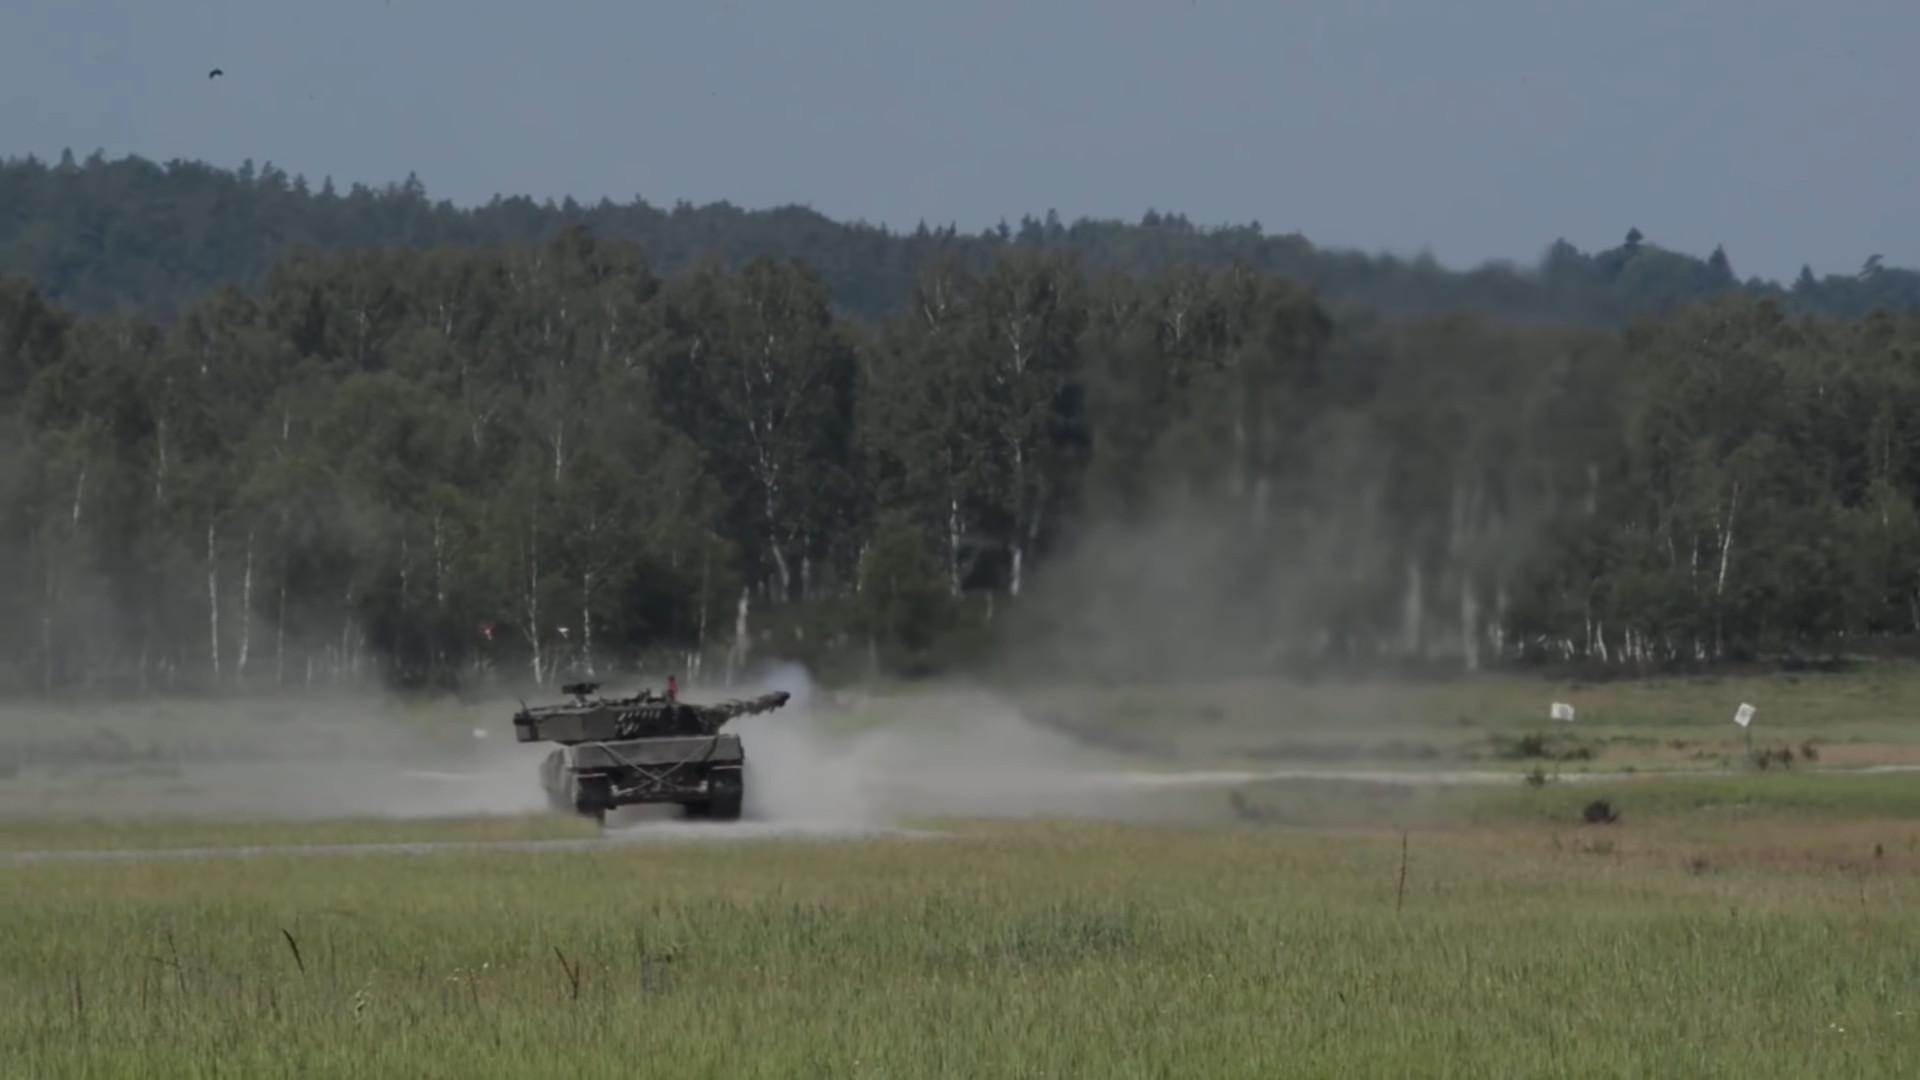tank: (515, 690, 791, 815)
